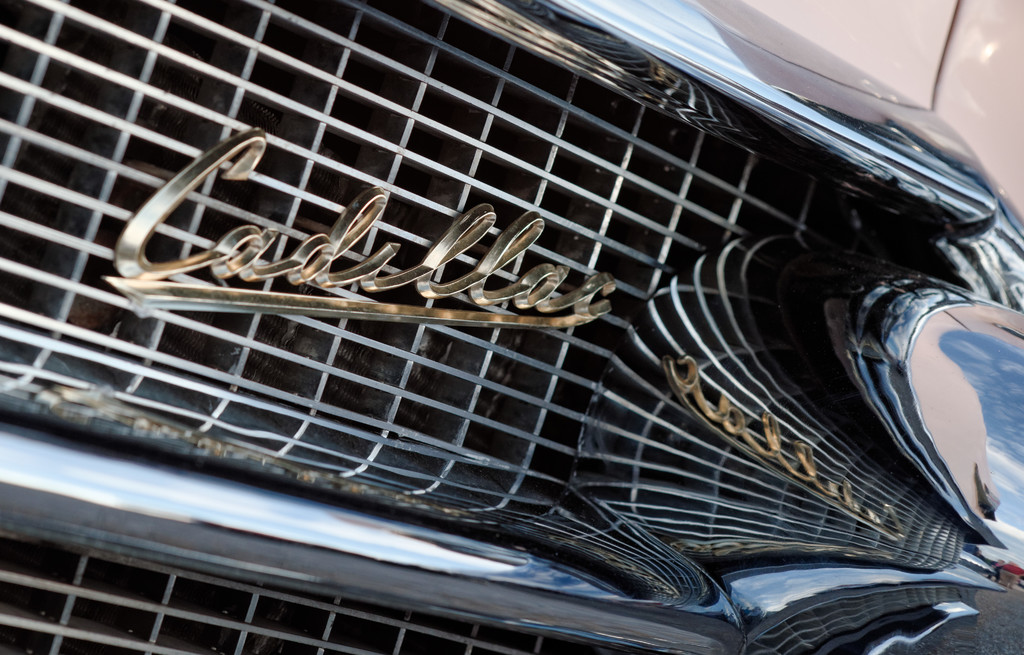Car: (63, 27, 995, 655)
